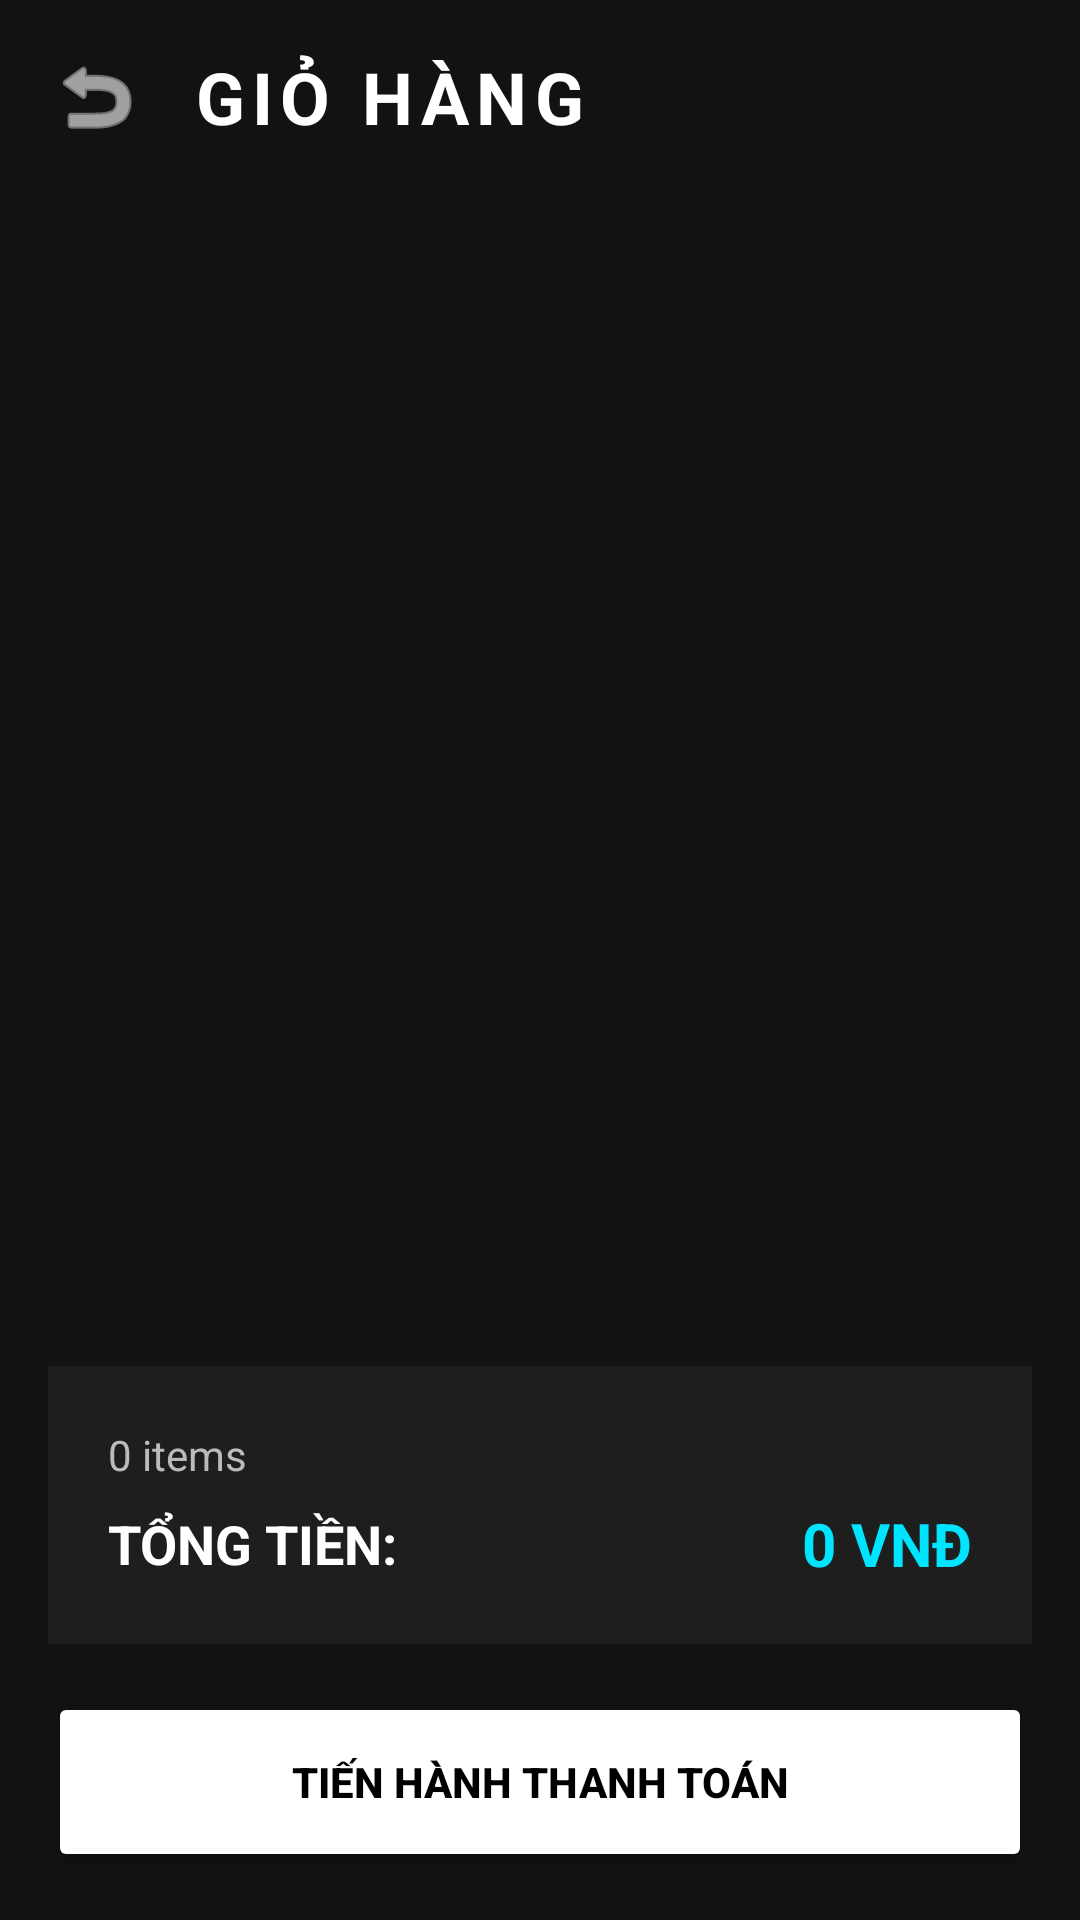

Locate icon controls on the screen. Image size 1080w x 1920h, boxes as detection(x1, y1, x2, y2).
revert: detection(63, 66, 132, 129)
